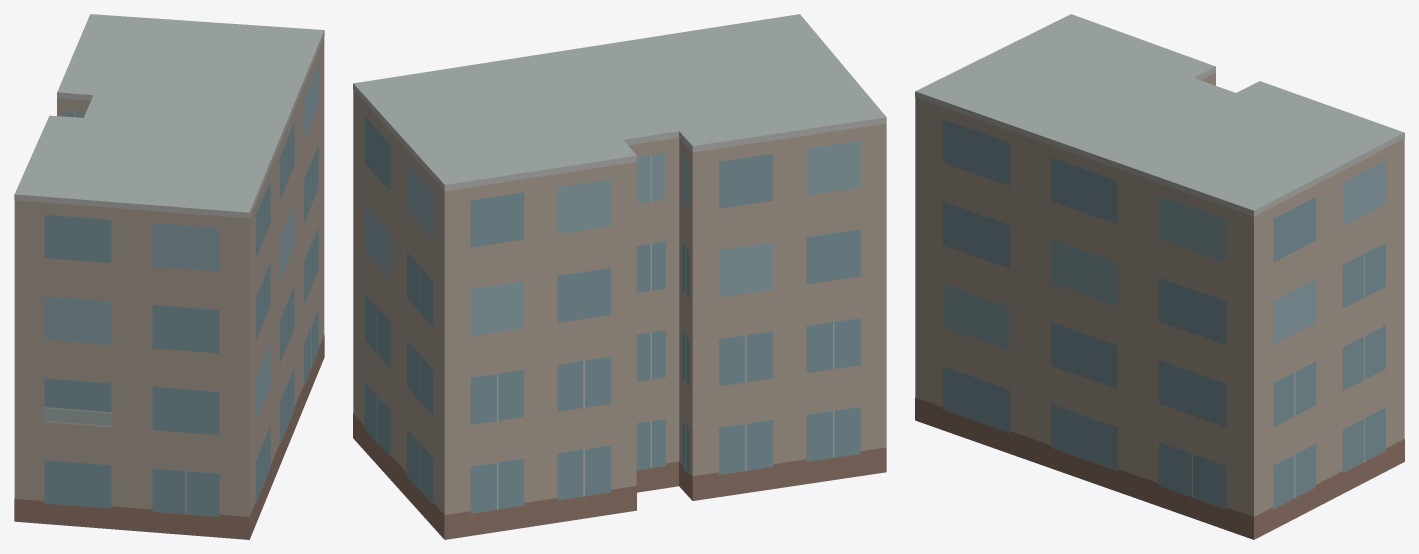
File: survey-upis-32692665.glb
3 renders of one model, left to right at view 1: azimuth 30°, elevation 25°; view 2: azimuth 150°, elevation 25°; view 3: azimuth 270°, elevation 25°, orthographic. The views are drawn at different scales.
Visible parts, largest first — view 1: survey-upis-32692665.tmp; view 2: survey-upis-32692665.tmp; view 3: survey-upis-32692665.tmp.
Boxes of the visible parts, box(x1,y1,x2,y2) form: survey-upis-32692665.tmp: box(14, 14, 324, 539); survey-upis-32692665.tmp: box(353, 14, 886, 539); survey-upis-32692665.tmp: box(915, 14, 1404, 539).
Bounding box in the file's own units: 17.45 × 13.6 × 18.34.
